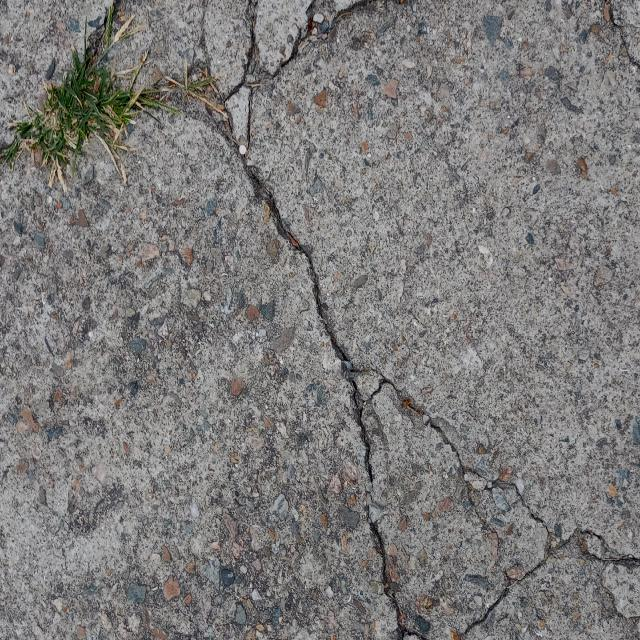SurfaceCrack: (142, 0, 631, 639)
